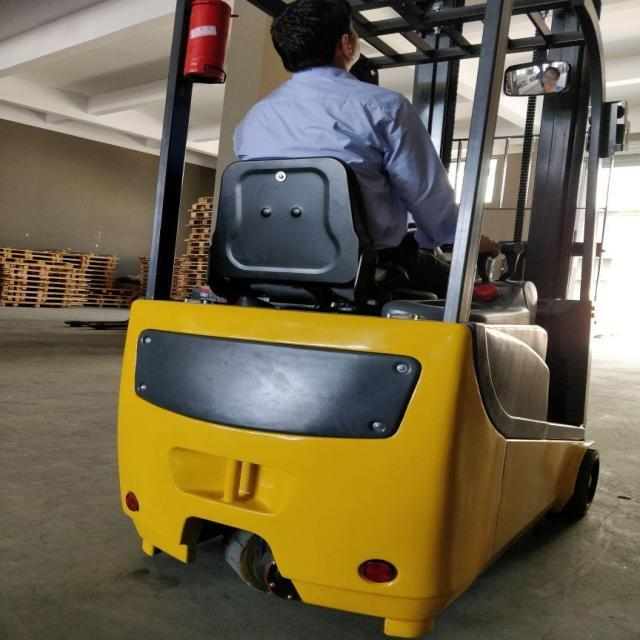driver: (231, 2, 473, 260)
forklift: (116, 5, 609, 608)
